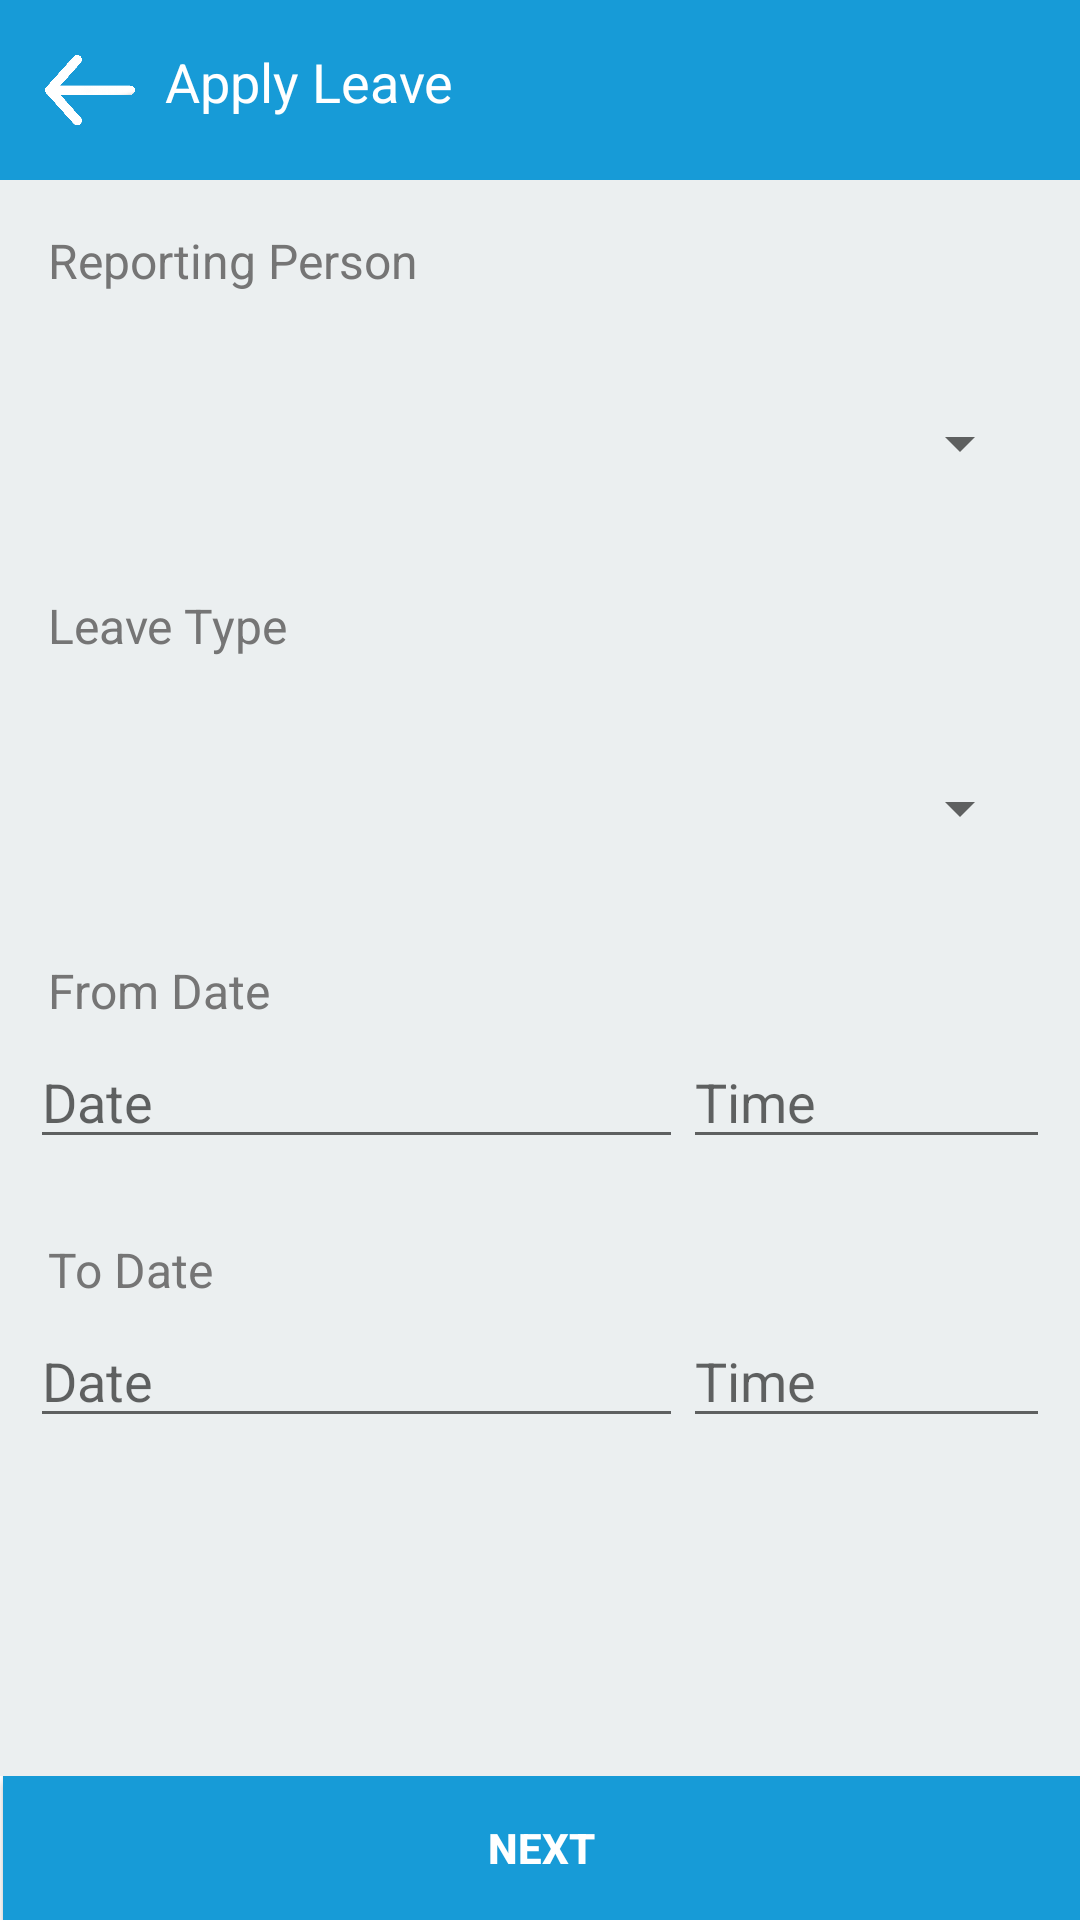

Named icons in this screenshot (1080px×1920px) and their bounding boxes, (x1, y1, x2, y2):
back: (45, 55, 135, 125)
